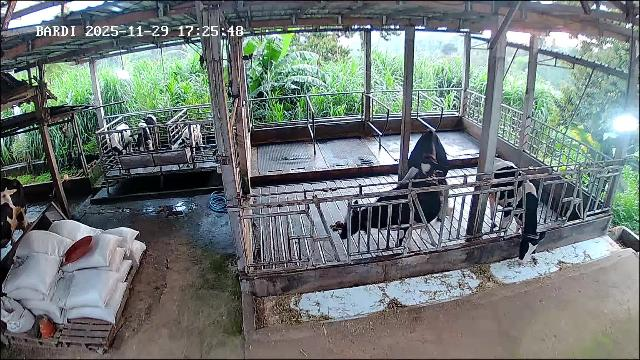mounting: (394, 130, 450, 221)
